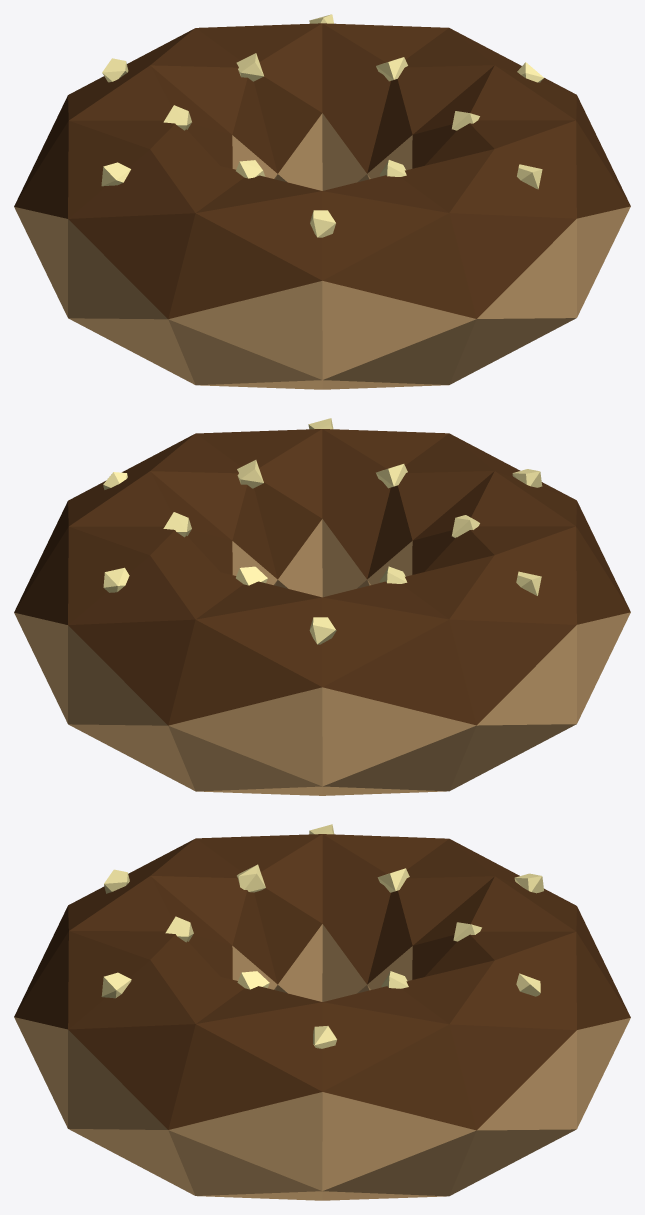
Rendered from doughnut_choco_nut.fbx.
3 views of the same model, one above another, from view 1: azimuth 30°, elevation 25°; view 2: azimuth 150°, elevation 25°; view 3: azimuth 270°, elevation 25° (orthographic).
Visible parts, largest first — view 1: dougnut_choco_nut; view 2: dougnut_choco_nut; view 3: dougnut_choco_nut.
Part boxes in pixels (<box>): dougnut_choco_nut: <box>14,14,630,389</box>; dougnut_choco_nut: <box>14,418,630,795</box>; dougnut_choco_nut: <box>14,824,630,1200</box>.
Size of the model in its own units: 8.94 by 3.34 by 9.39.
